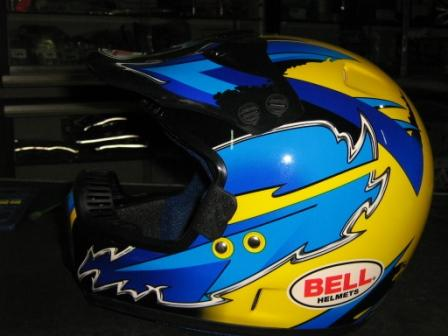helmet: (96, 53, 413, 314)
